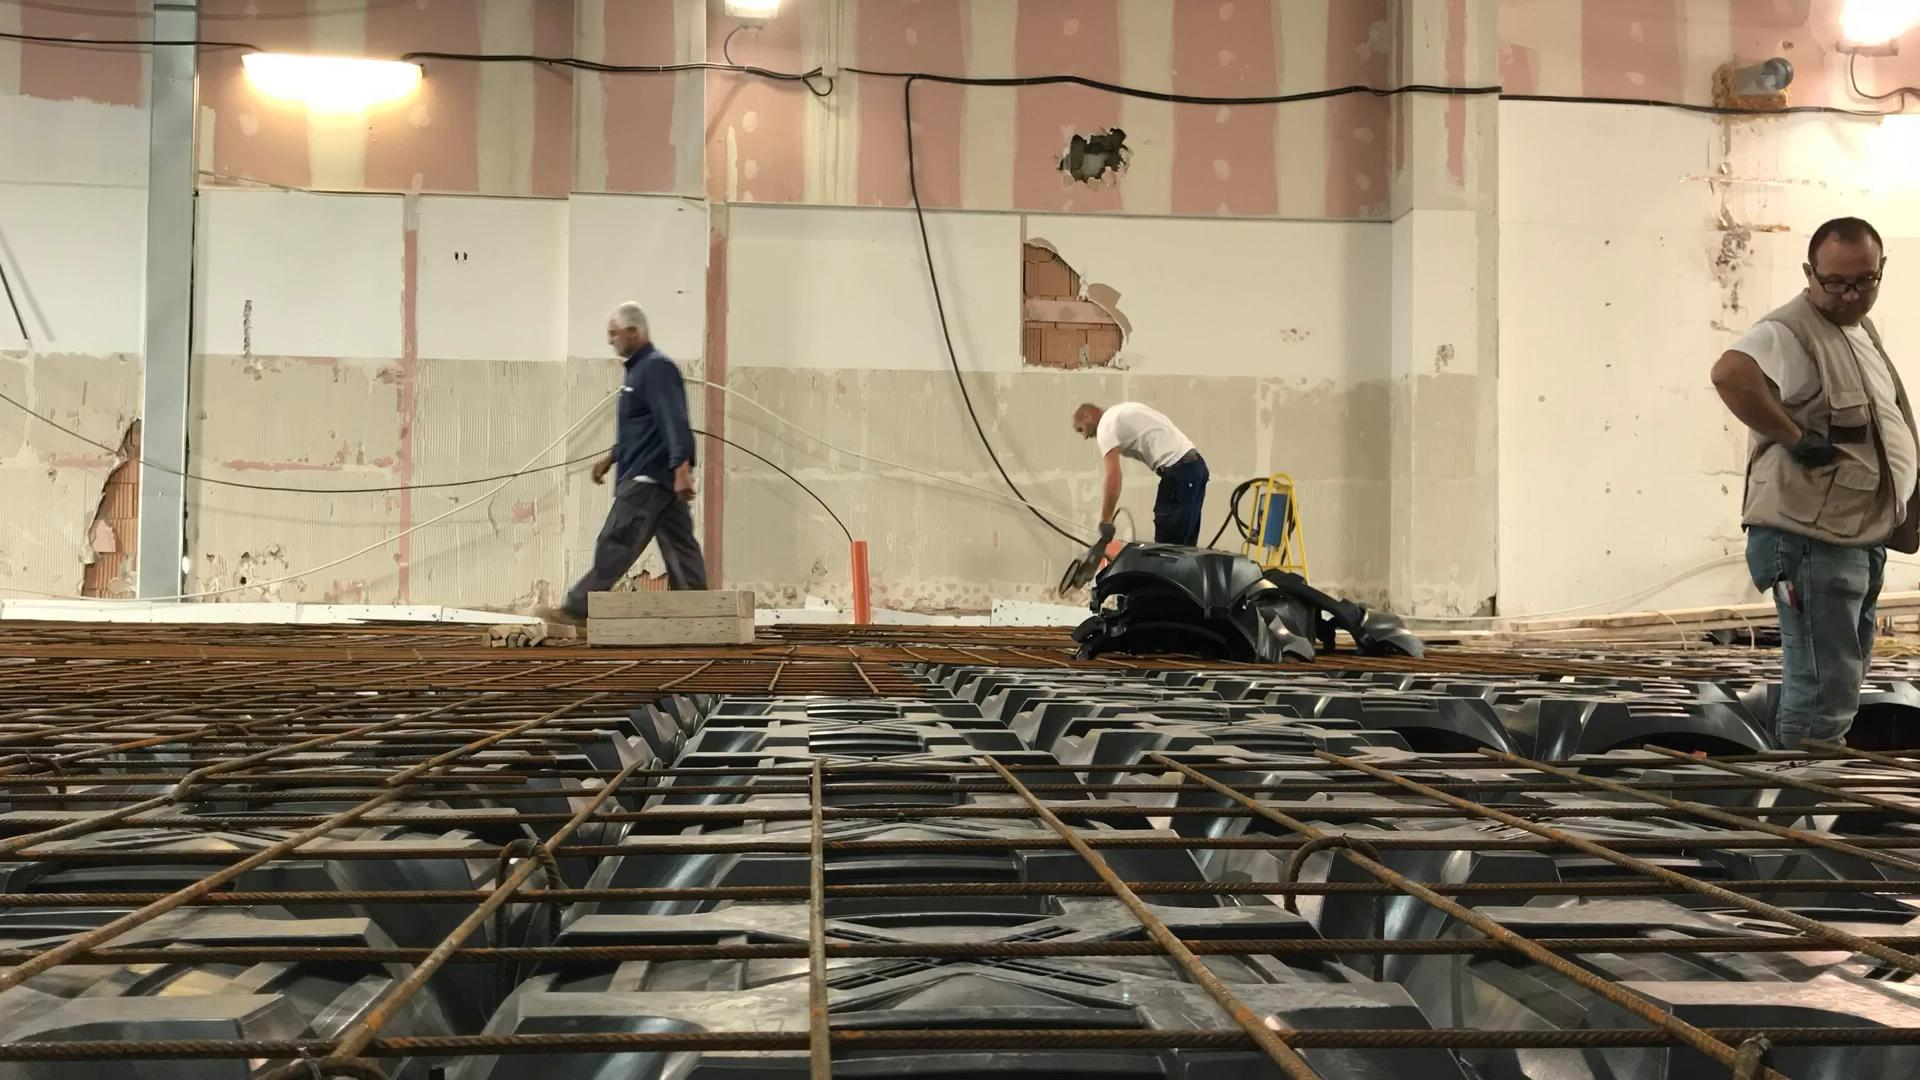no hat: (1785, 191, 1919, 351), (571, 265, 681, 397), (1043, 359, 1119, 453)
no vest: (1707, 283, 1920, 577), (543, 353, 719, 521), (1065, 399, 1215, 513)
